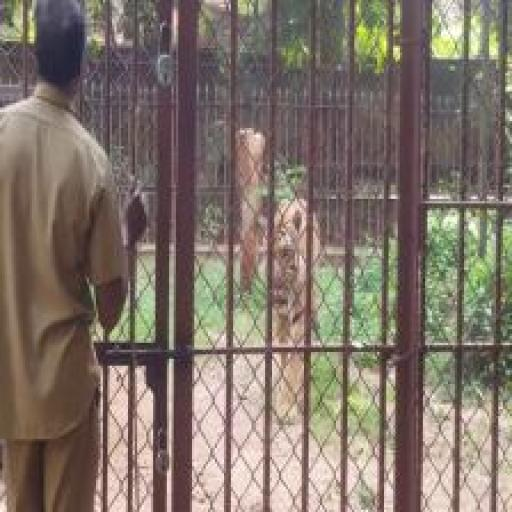Tiger: (260, 199, 335, 450)
